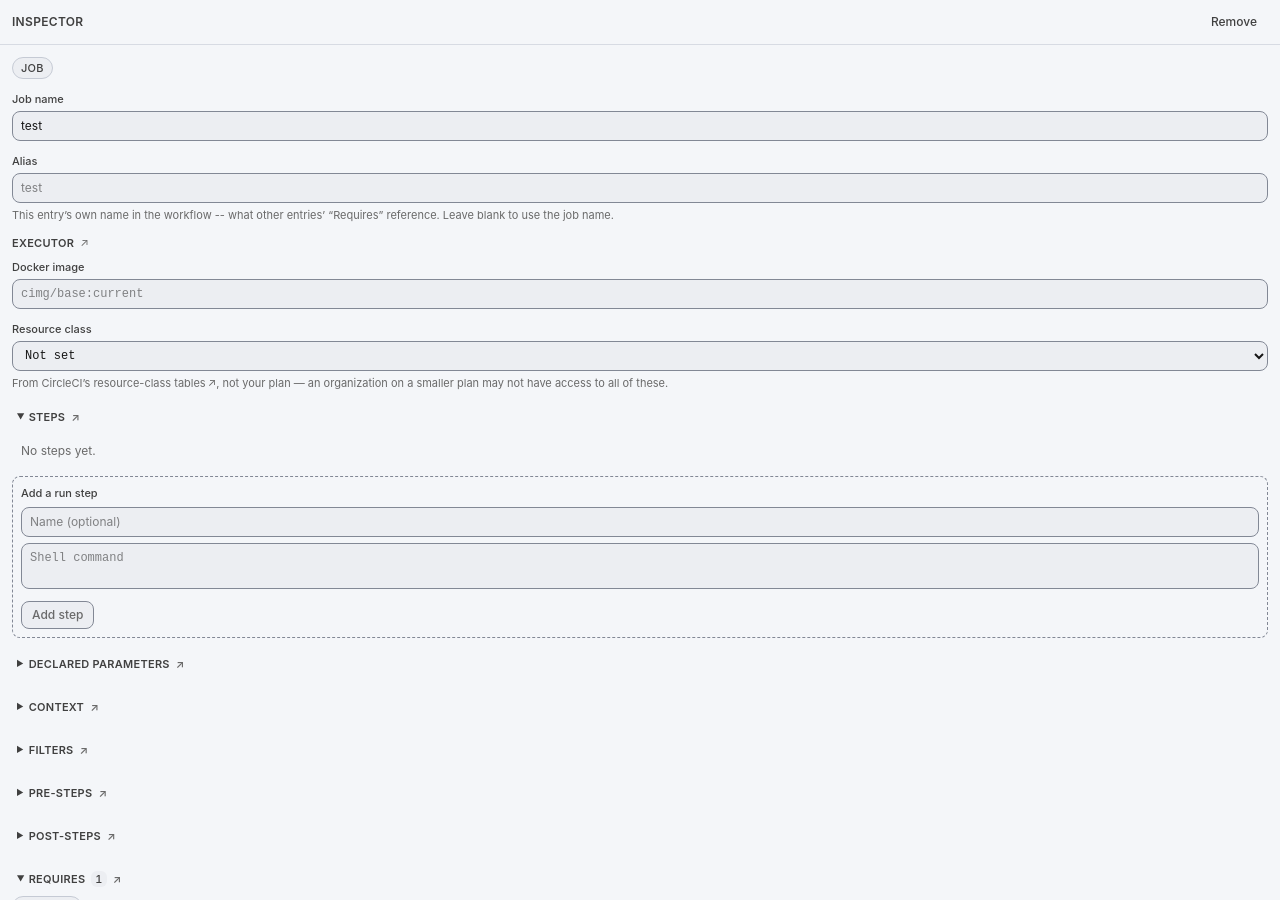
Test: Inspector -- rename reference prompt (#12) › lists every site by name instead of asking a generic "are you sure"
Replace the text in the field labelled "Job name" with "unit" at (640, 126), box [12, 111, 1268, 141]
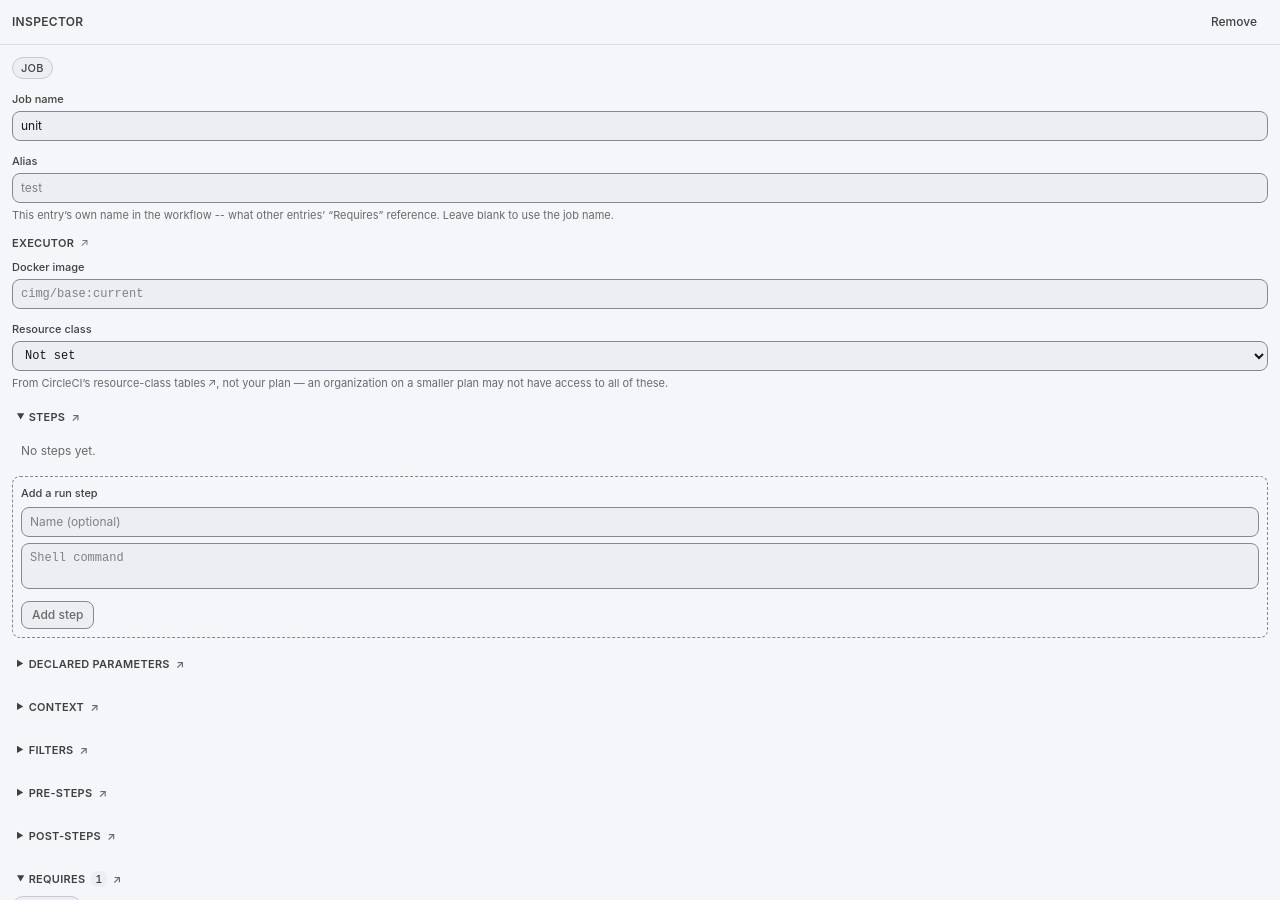
Leave the field labelled "Job name", box [12, 111, 1268, 141]
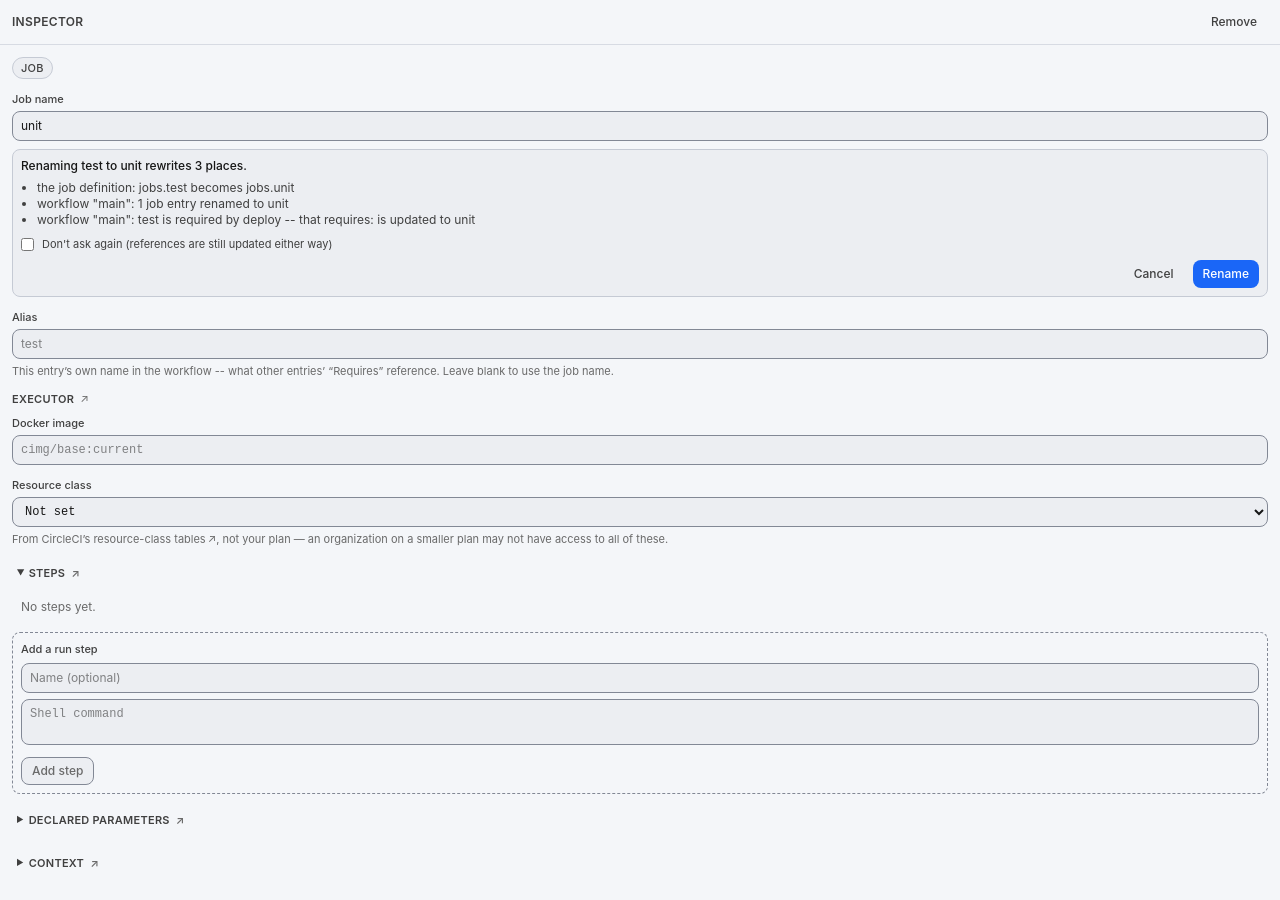
Expected: the dialog named "rename \"test\" to \"unit\"" shows "Renaming test to unit rewrites 3 places.", [21, 158, 247, 173]
Expected: the dialog named "rename \"test\" to \"unit\"" shows "jobs.test becomes jobs.unit", [37, 180, 294, 195]
Expected: the dialog named "rename \"test\" to \"unit\"" shows "1 job entry renamed to unit", [37, 196, 289, 211]
